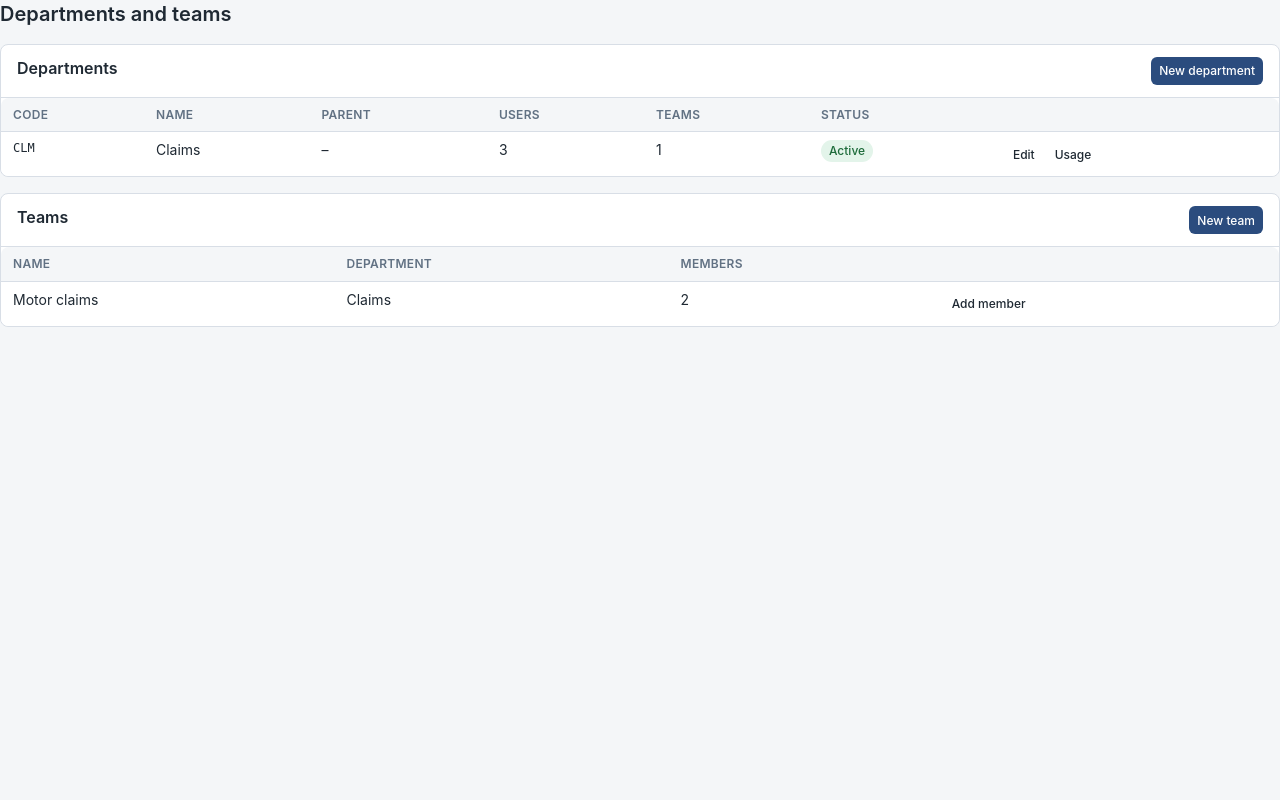
Test: departments and teams › blocks saving a department with an empty name
Click the button "Edit" at (1024, 154), box [1005,140,1043,168]
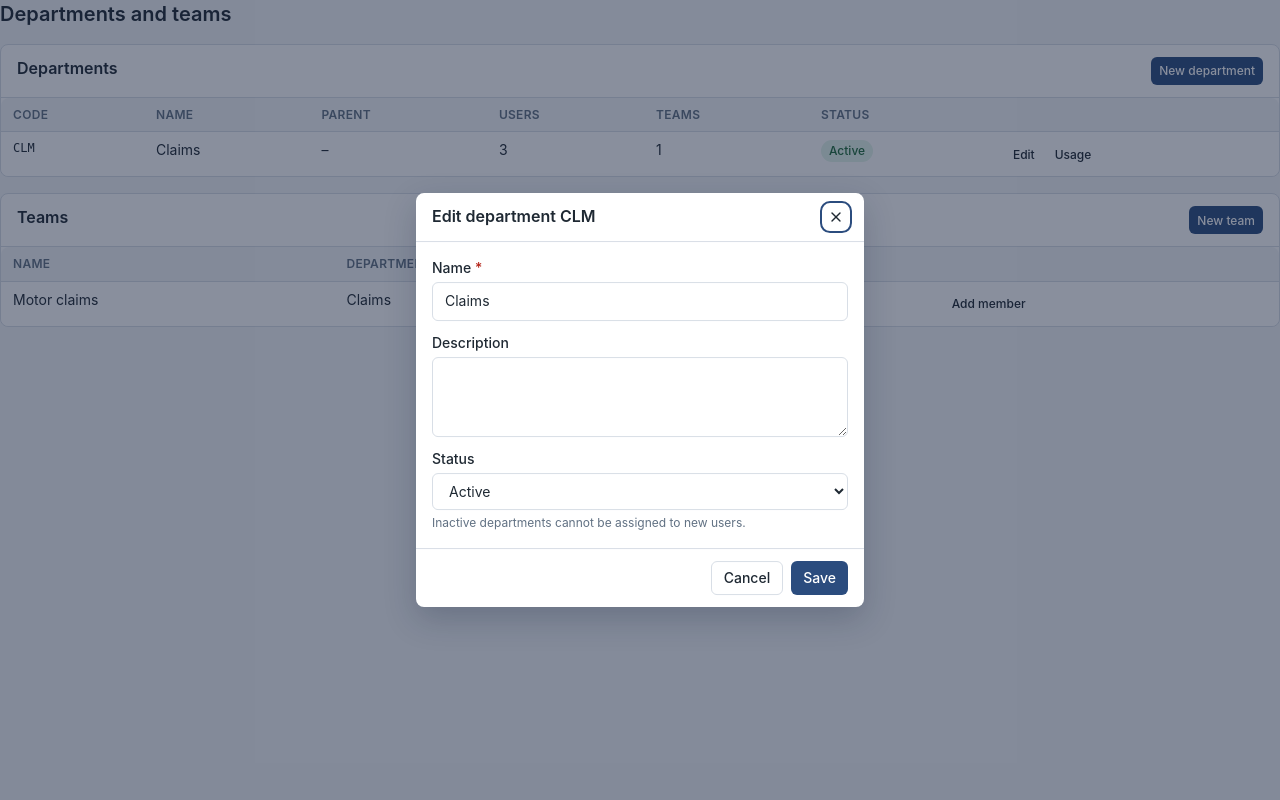
Clear the field labelled "Name *" at (640, 302), box [432,282,848,321]
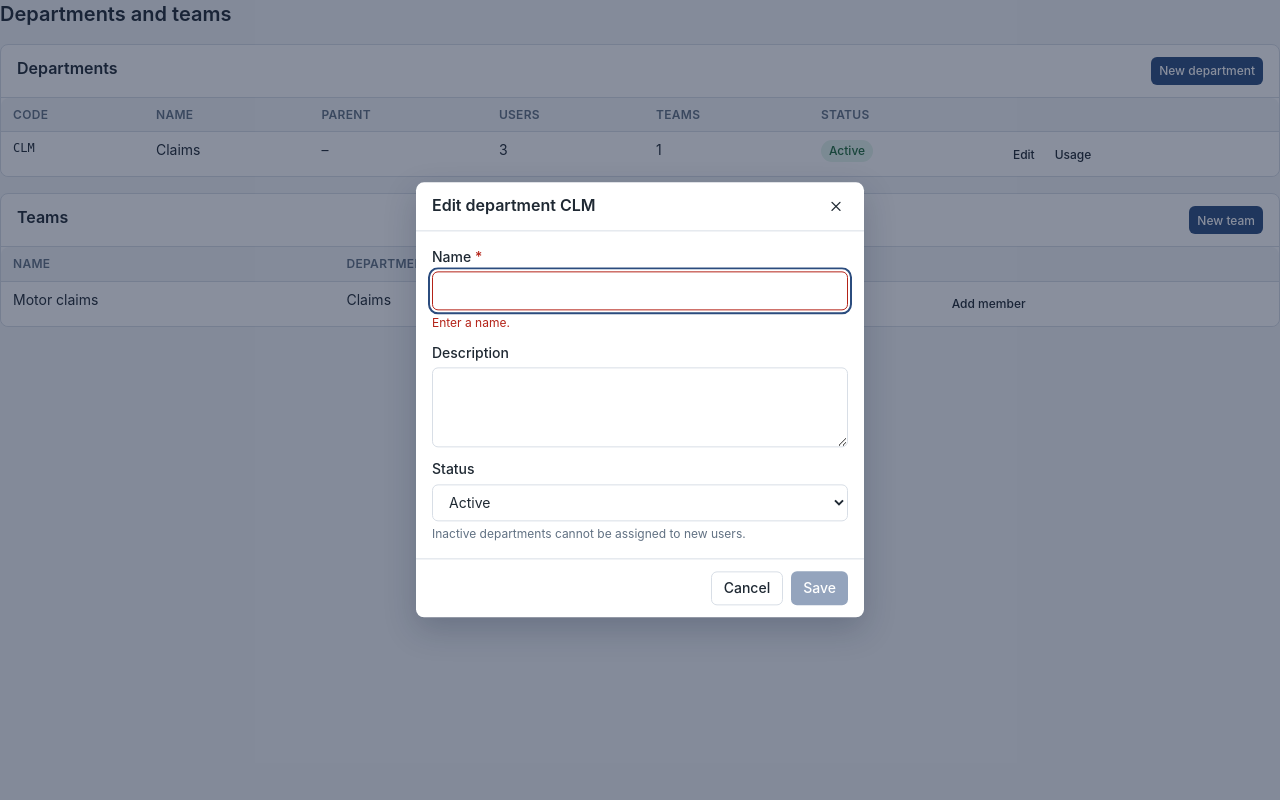
expect the text "Enter a name." is shown: met, box [432,315,510,330]
expect the button "Save" is disabled: met, box [791,571,848,606]
